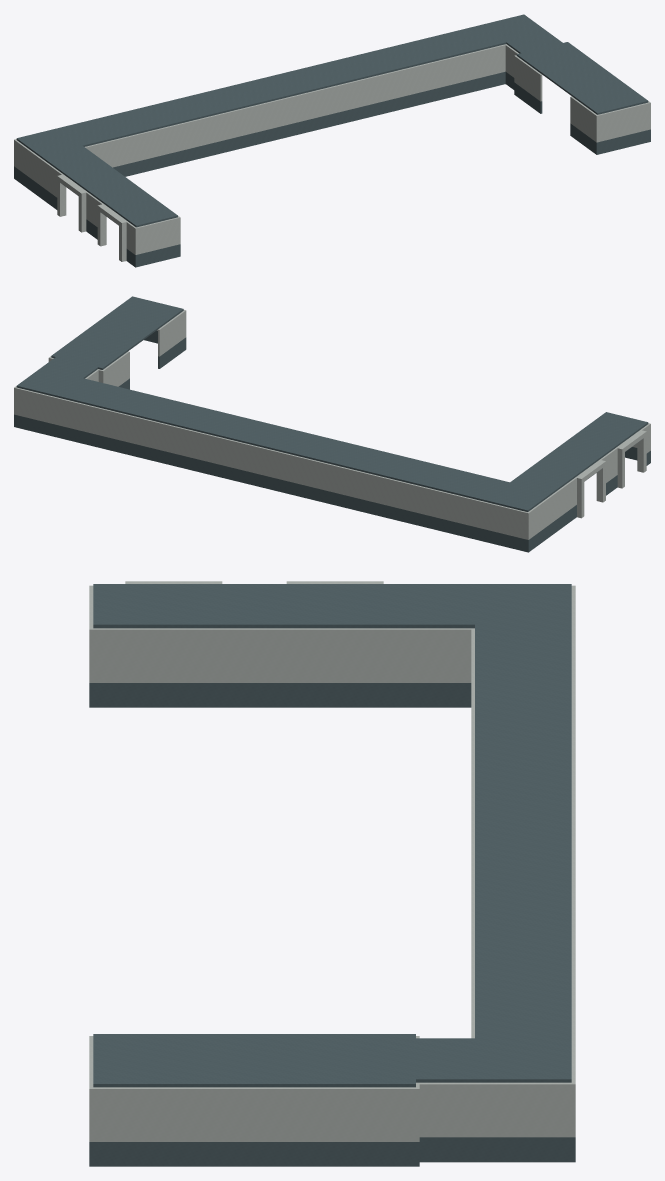
Rendered from AST-RES-TIDAL_D13_guarded_shaft_receiving_r001.glb.
The picture shows the model from 3 angles, top to bottom: view 1: azimuth 30°, elevation 25°; view 2: azimuth 150°, elevation 25°; view 3: azimuth 270°, elevation 25°; orthographic projection. The views are drawn at different scales.
Parts seen in each view (by area): view 1: TidalStaffRoof_D13_-3_-62_0, TidalStaffRoof_D13_-8_-63_0, TidalStaffWallHigh_D13_-4_-63_0, TidalStaffWallHigh_D13_-5_-63_0, TidalStaffWallHigh_D13_-7_-63_0, TidalStaffWallHigh_D13_-6_-63_0, TidalStaffRoof_D13_-6_-63_0, TidalStaffRoof_D13_-7_-63_0, TidalStaffRoof_D13_-5_-63_0, TidalStaffRoof_D13_-4_-63_0, TidalStaffRoof_D13_-8_-62_0, TidalStaffWallHigh_D13_-3_-61_0 (+15 smaller); view 2: TidalStaffWallHigh_D13_-8_-63_1, TidalStaffRoof_D13_-3_-62_0, TidalStaffRoof_D13_-8_-63_0, TidalStaffWallHigh_D13_-5_-63_1, TidalStaffWallHigh_D13_-7_-63_1, TidalStaffWallHigh_D13_-6_-63_1, TidalStaffWallHigh_D13_-4_-63_1, TidalStaffRoof_D13_-6_-63_0, TidalStaffRoof_D13_-5_-63_0, TidalStaffRoof_D13_-7_-63_0, TidalStaffRoof_D13_-4_-63_0, TidalStaffRoof_D13_-8_-62_0 (+13 smaller); view 3: TidalStaffWallHigh_D13_-8_-62_0, TidalStaffWallHigh_D13_-3_-62_1, TidalStaffRoof_D13_-3_-62_0, TidalStaffRoof_D13_-8_-63_0, TidalStaffRoof_D13_-8_-62_0, TidalStaffWallHigh_D13_-3_-63_1, TidalStaffRoof_D13_-7_-63_0, TidalStaffRoof_D13_-6_-63_0, TidalStaffRoof_D13_-5_-63_0, TidalStaffRoof_D13_-4_-63_0, TidalStaffRoof_D13_-3_-63_0, TidalStaffWallHigh_D13_-3_-61_0 (+10 smaller).
Boxes of the visible parts, x1,y1,x2,y2 form: TidalStaffRoof_D13_-3_-62_0: (516, 42, 621, 94); TidalStaffRoof_D13_-8_-63_0: (16, 119, 119, 168); TidalStaffWallHigh_D13_-4_-63_0: (399, 47, 493, 97); TidalStaffWallHigh_D13_-5_-63_0: (306, 70, 400, 119); TidalStaffWallHigh_D13_-7_-63_0: (120, 115, 213, 165); TidalStaffWallHigh_D13_-6_-63_0: (213, 93, 306, 142); TidalStaffRoof_D13_-6_-63_0: (189, 73, 306, 115); TidalStaffRoof_D13_-7_-63_0: (96, 96, 212, 138); TidalStaffRoof_D13_-5_-63_0: (282, 51, 399, 92); TidalStaffRoof_D13_-4_-63_0: (375, 28, 492, 69); TidalStaffRoof_D13_-8_-62_0: (55, 156, 150, 207); TidalStaffWallHigh_D13_-3_-61_0: (570, 96, 650, 142); TidalStaffWallHigh_D13_-8_-63_1: (447, 483, 568, 539); TidalStaffRoof_D13_-3_-62_0: (51, 316, 156, 369); TidalStaffRoof_D13_-8_-63_0: (448, 471, 566, 511); TidalStaffWallHigh_D13_-5_-63_1: (165, 424, 259, 474); TidalStaffWallHigh_D13_-7_-63_1: (353, 470, 447, 519); TidalStaffWallHigh_D13_-6_-63_1: (259, 447, 353, 496); TidalStaffWallHigh_D13_-4_-63_1: (72, 401, 166, 451); TidalStaffRoof_D13_-6_-63_0: (260, 427, 377, 469); TidalStaffRoof_D13_-5_-63_0: (166, 404, 284, 446); TidalStaffRoof_D13_-7_-63_0: (354, 450, 471, 492); TidalStaffRoof_D13_-4_-63_0: (73, 381, 190, 423); TidalStaffRoof_D13_-8_-62_0: (525, 432, 621, 483); TidalStaffWallHigh_D13_-8_-62_0: (200, 628, 415, 682); TidalStaffWallHigh_D13_-3_-62_1: (200, 1087, 415, 1141); TidalStaffRoof_D13_-3_-62_0: (200, 1034, 415, 1087); TidalStaffRoof_D13_-8_-63_0: (416, 584, 571, 661); TidalStaffRoof_D13_-8_-62_0: (200, 584, 415, 628); TidalStaffWallHigh_D13_-3_-63_1: (416, 1028, 575, 1141); TidalStaffRoof_D13_-7_-63_0: (475, 661, 571, 751); TidalStaffRoof_D13_-6_-63_0: (475, 752, 571, 842); TidalStaffRoof_D13_-5_-63_0: (475, 843, 571, 933); TidalStaffRoof_D13_-4_-63_0: (475, 934, 571, 1024); TidalStaffRoof_D13_-3_-63_0: (416, 1024, 571, 1082); TidalStaffWallHigh_D13_-3_-61_0: (89, 1036, 200, 1141).
Bounding box in the file's own units: 44.68 × 3.34 × 18.08.
4 materials, 4 textured.
